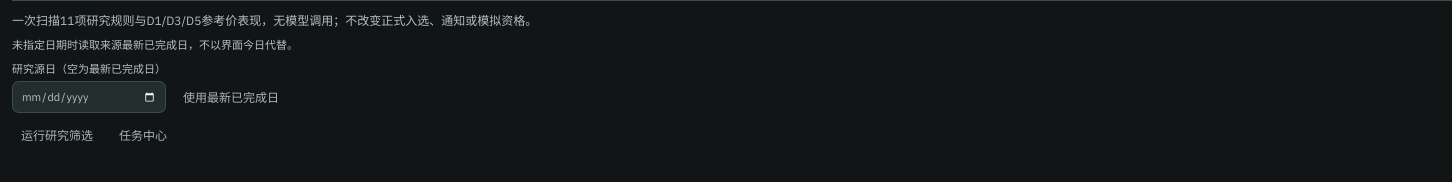
Scenario: one explicit shared scan reads the exact task and publishes the selected method's frozen identity
Click the button "运行研究筛选". click: (57, 136)
box: x1=12 y1=121 x2=102 y2=151
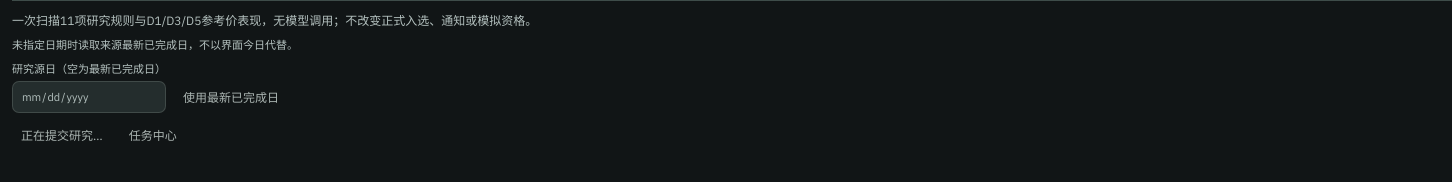
Click the button named "运行研究筛选". click: (62, 136)
box: x1=12 y1=121 x2=112 y2=151
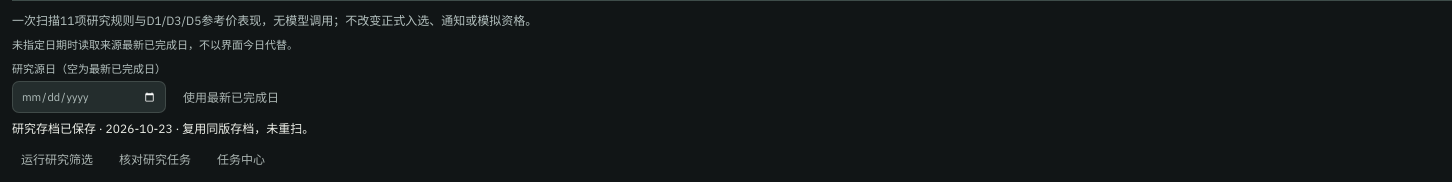
Now the text "研究存档已保存 · 2026-10-23 · 复用同版存档，未重扫。" is shown, box x1=12 y1=121 x2=314 y2=136
